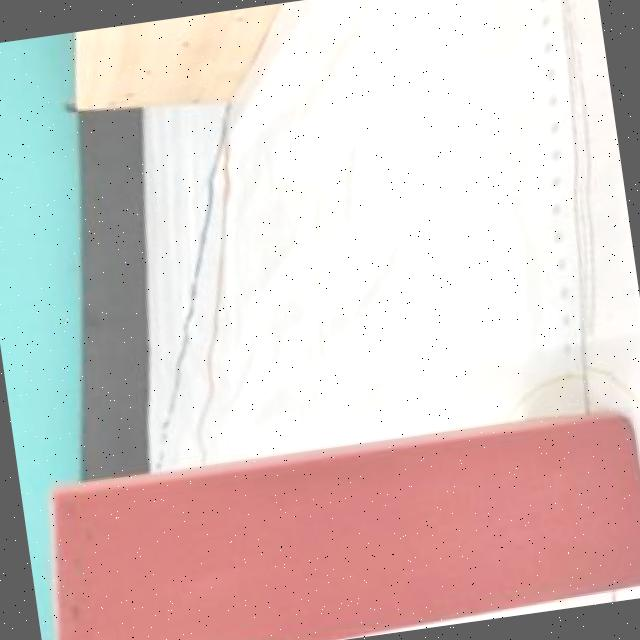redbox: (31, 403, 640, 640)
